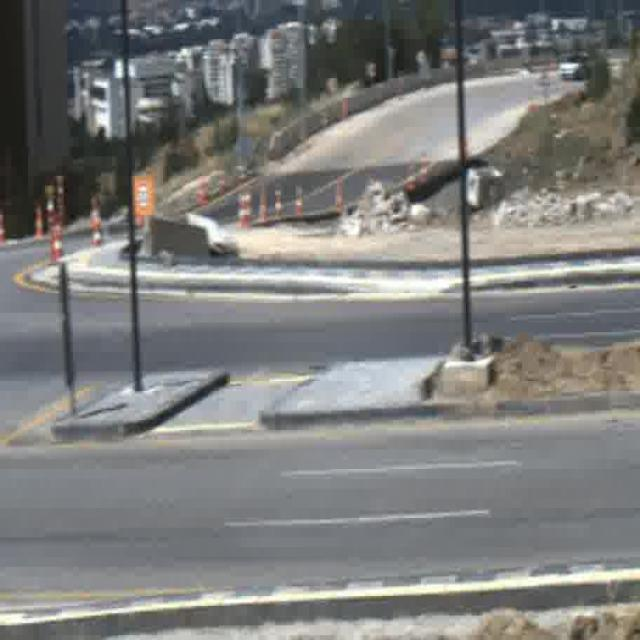Car: (560, 51, 589, 78)
